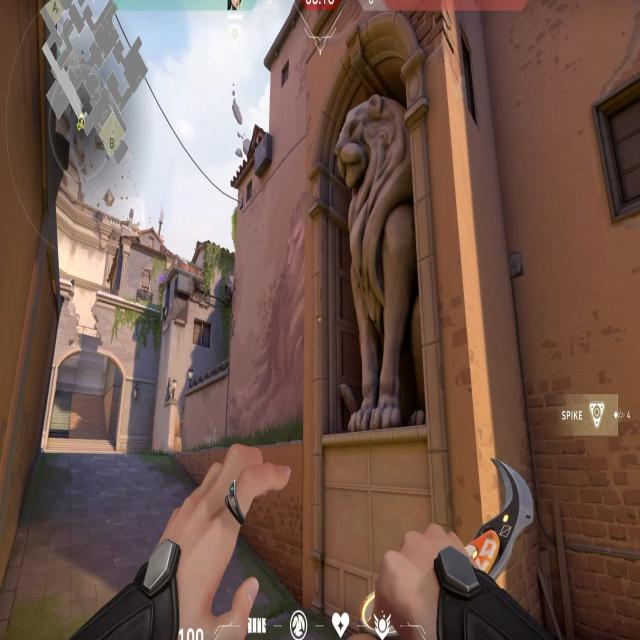Lion_Corner: (302, 0, 450, 437)
